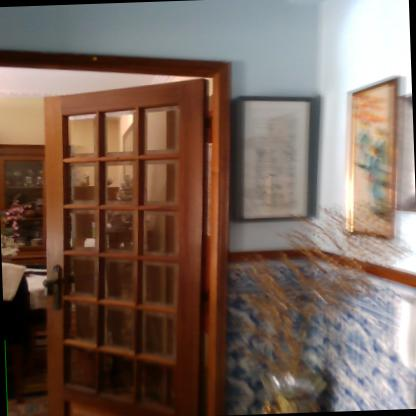semi: (0, 40, 250, 415)
